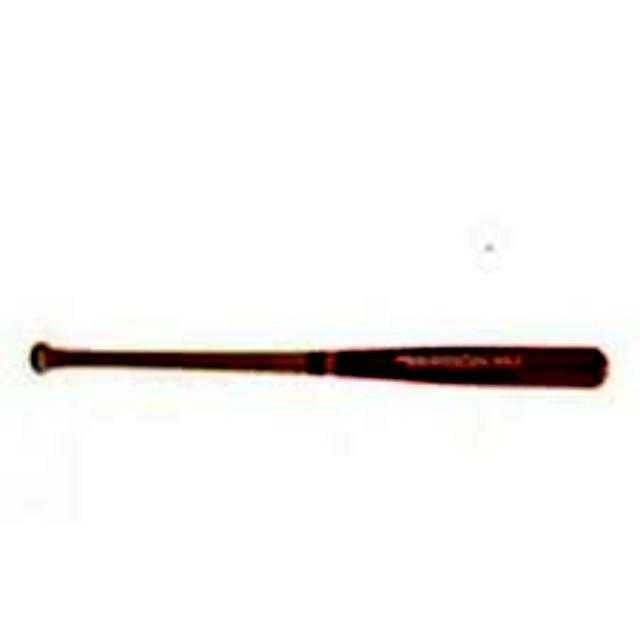baseball bat: (29, 339, 609, 387)
